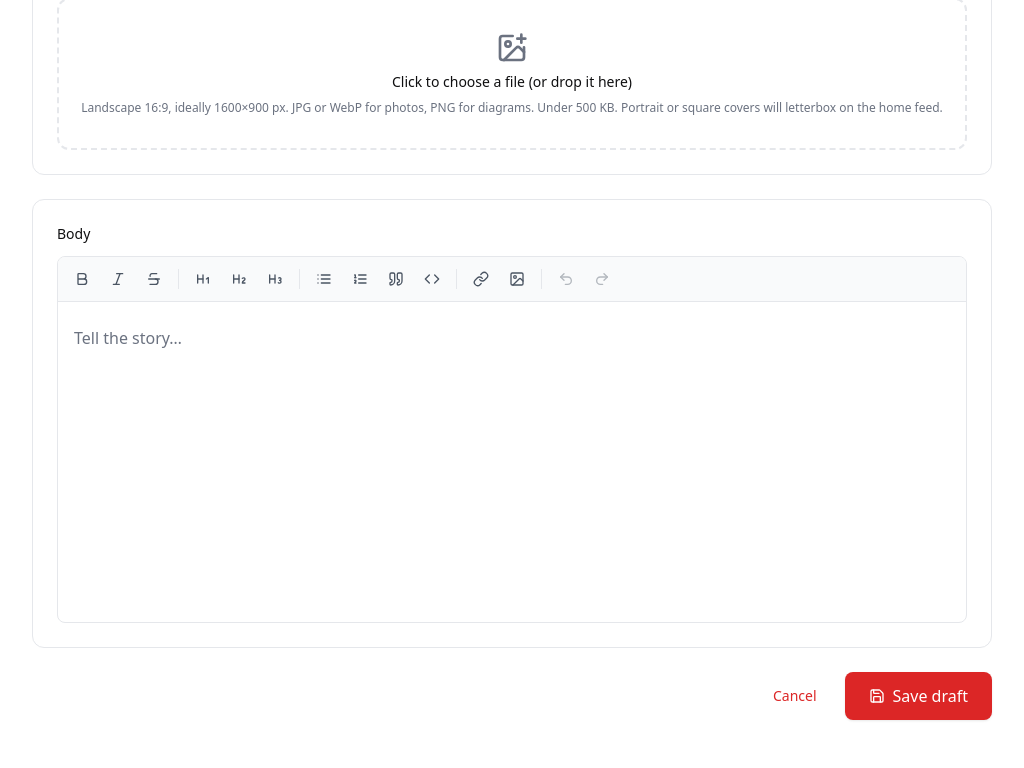
Test: <NewDraftPage> › blocks submission and surfaces a title error when title is missing
(page scrolled)
Click the button "Save draft" at (918, 696), box [844,672,992,720]
(page scrolled)
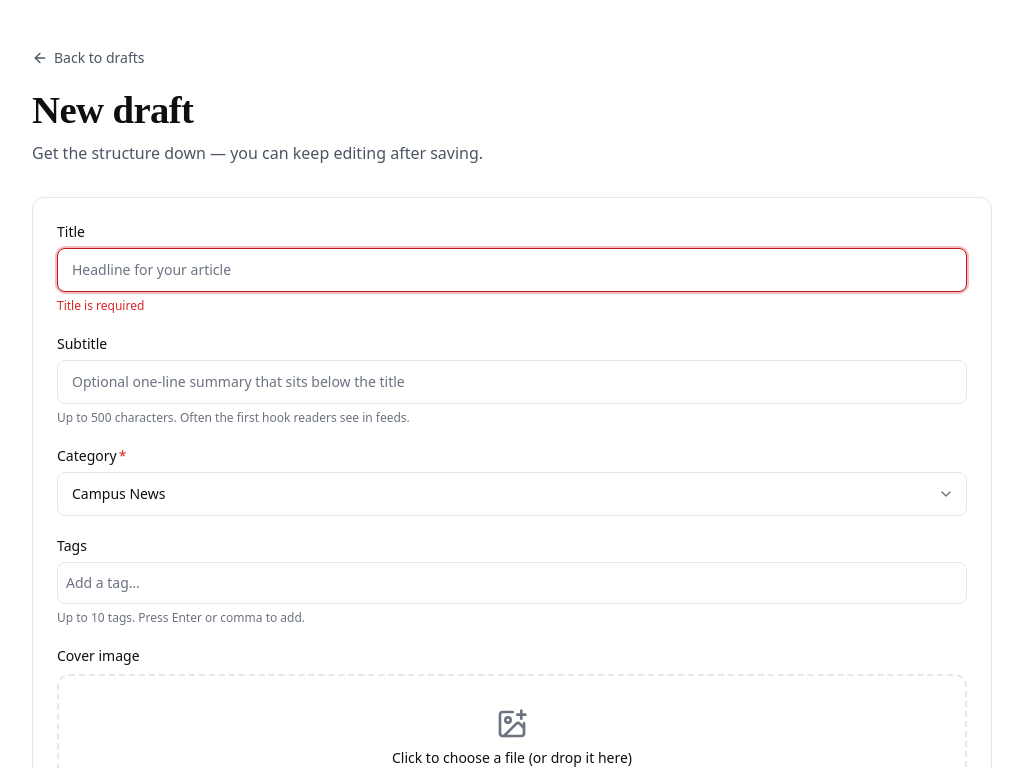
Now the text "Title is required" is shown, box [57,296,144,314]
